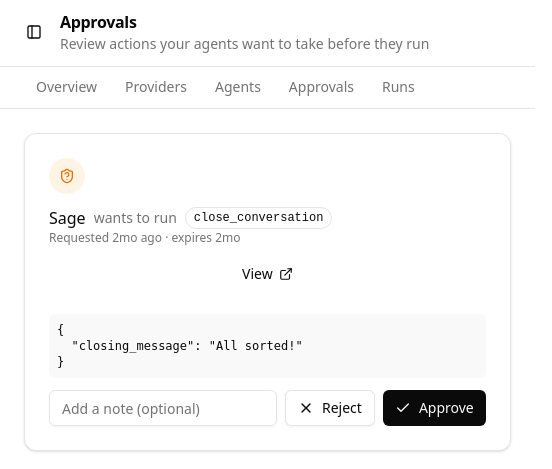
Test: ApprovalsPage › approves a pending request and removes it from the queue
The image size is (552, 469).
Check: the text "close_conversation" is shown, box [185, 207, 332, 229]
Click the button "Approve": {"x": 434, "y": 408} [383, 390, 486, 426]
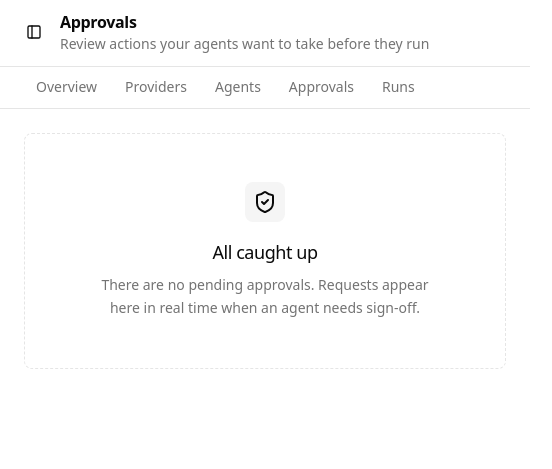
Check: the text "close_conversation" is gone
